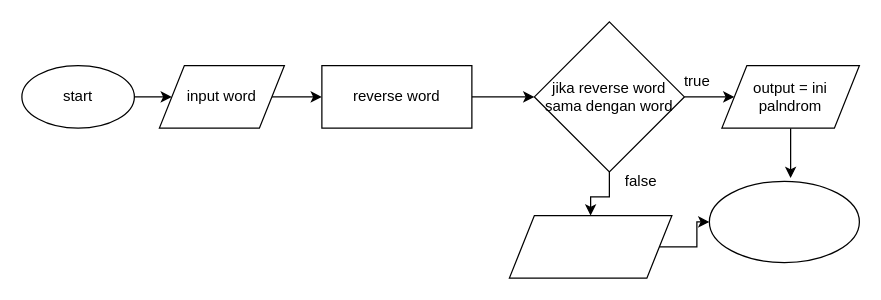
The diagram is 881 pixels wide and 300 high, and some of its shapes have lost their labels. Each missing label, with the centre of its shape:
"output = ini bukan palindrom" belongs at point 590,246.
"selesai" belongs at point 783,221.
